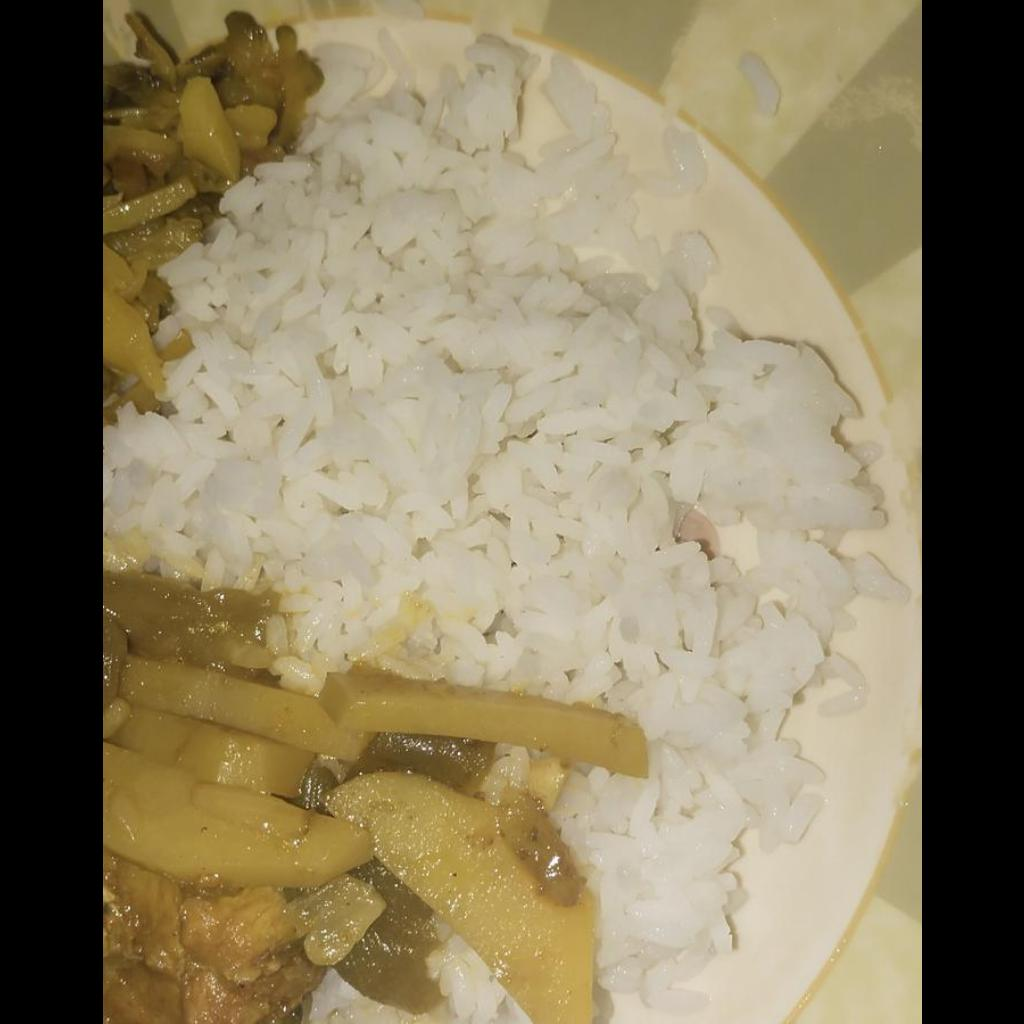rice: (102, 30, 900, 1013)
vaji: (102, 1, 315, 418)
vegetable: (102, 571, 641, 1023)
